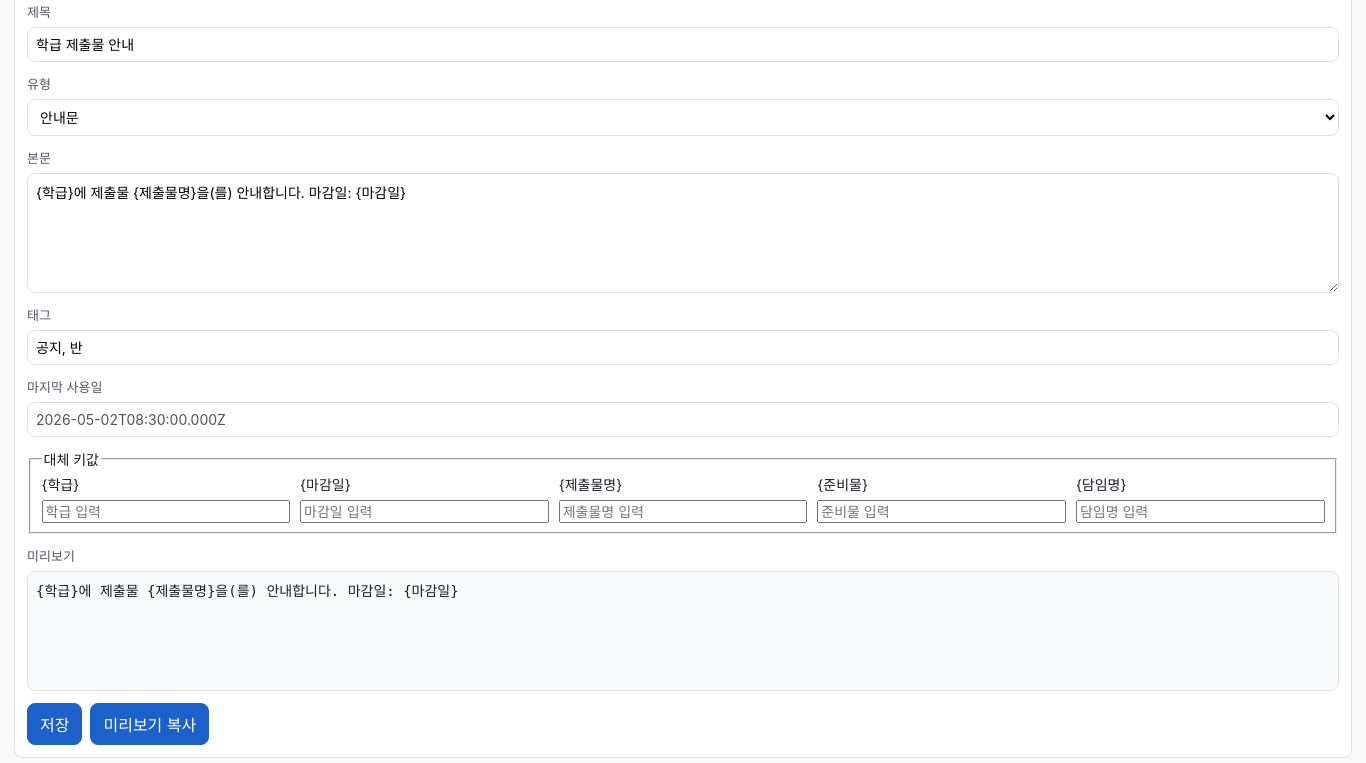
Test: TemplatesPage clipboard interactions › disables template selection while persistence is busy
(page scrolled)
What coordinates should you click on to do the following:
click the button "저장"
I would click on:
 (55, 724)
Its box is [27,702,82,744].
(page scrolled)
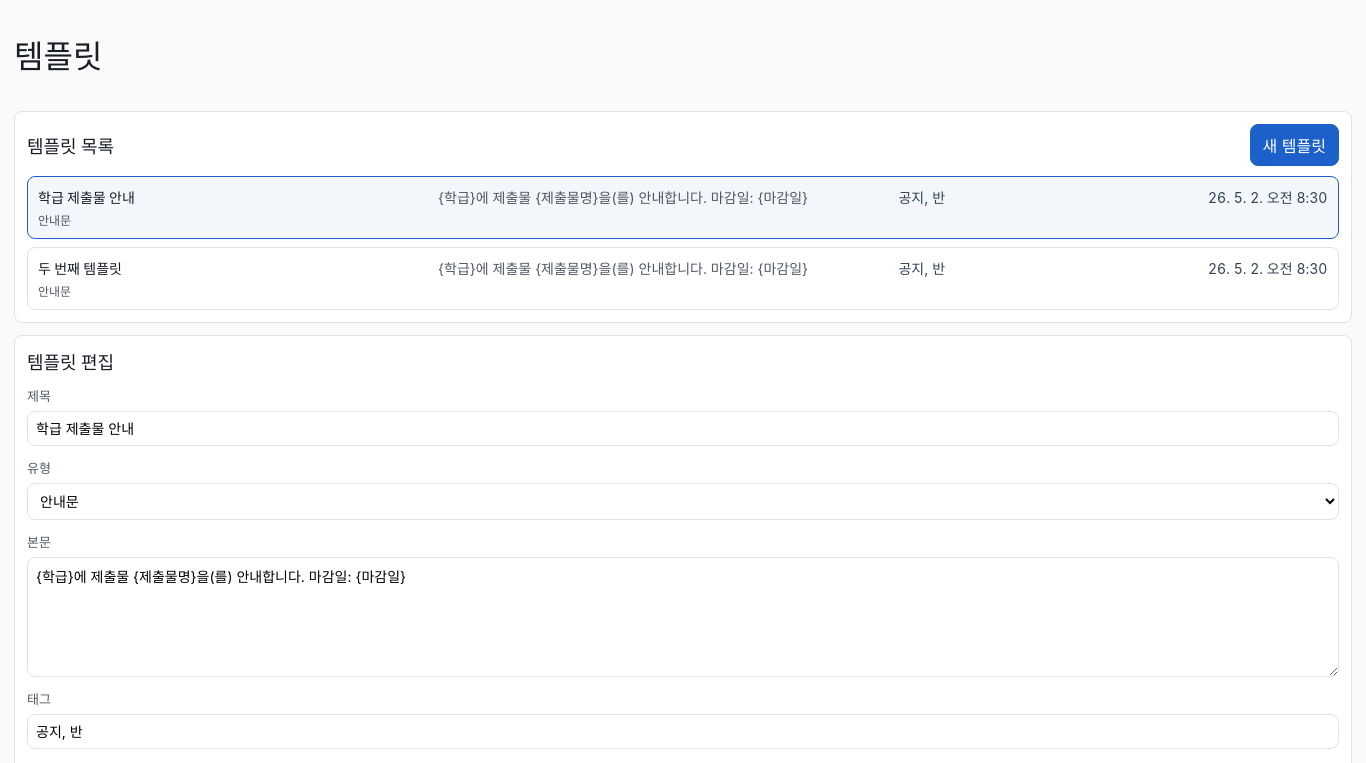
Check: the button "학급 제출물 안내" is disabled, box [27,176,1339,239]
Check: the button "두 번째 템플릿" is disabled, box [27,247,1339,310]
